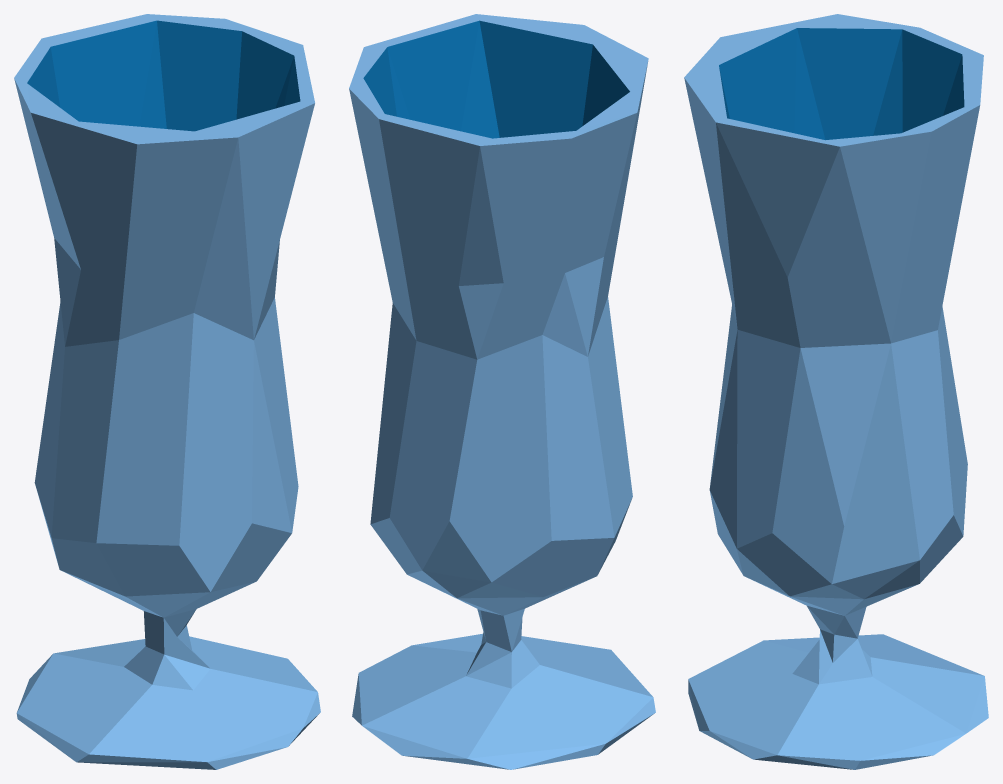
Rendered from CocktailGlass01.fbx.
3 views of the same model, side by side, from view 1: azimuth 30°, elevation 25°; view 2: azimuth 150°, elevation 25°; view 3: azimuth 270°, elevation 25° (orthographic).
Parts seen in each view (by area): view 1: CocktailGlass01LowPoly; view 2: CocktailGlass01LowPoly; view 3: CocktailGlass01LowPoly.
Boxes of the visible parts, x1,y1,x2,y2 form: CocktailGlass01LowPoly: (14, 14, 320, 769); CocktailGlass01LowPoly: (349, 14, 655, 769); CocktailGlass01LowPoly: (684, 14, 988, 769).
Size of the model in its own units: 9.09 by 20 by 8.82.
